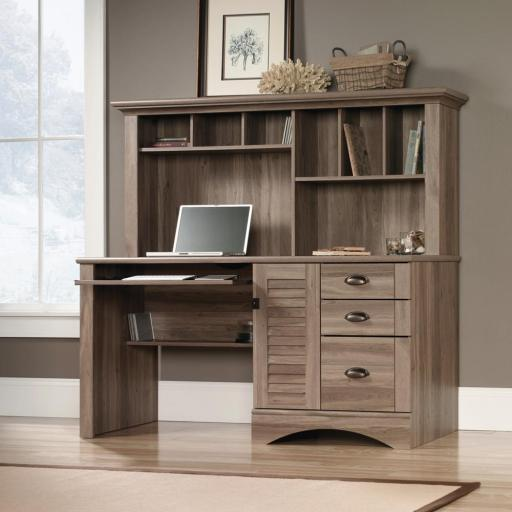desk: (75, 89, 469, 448)
wall: (0, 0, 511, 432)
